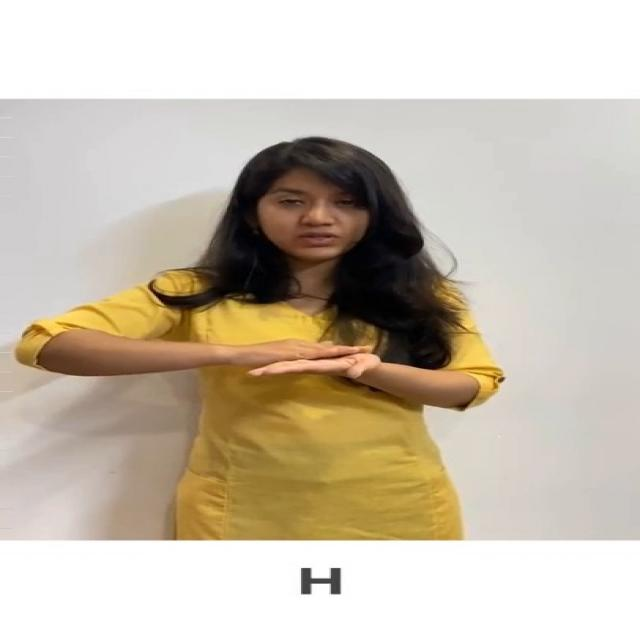H: (199, 319, 406, 404)
